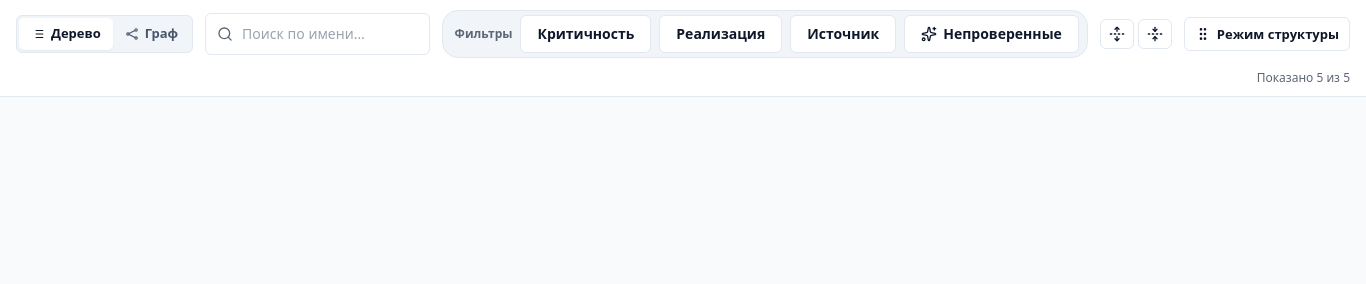
Scenario: TreeToolbar (T-1101/1103/1105) › FR-19 · «Источник» dropdown › applies the source selection only on «Применить» (draft semantics)
Click the button with test id "source-filter": click(843, 34) [790,15,896,53]
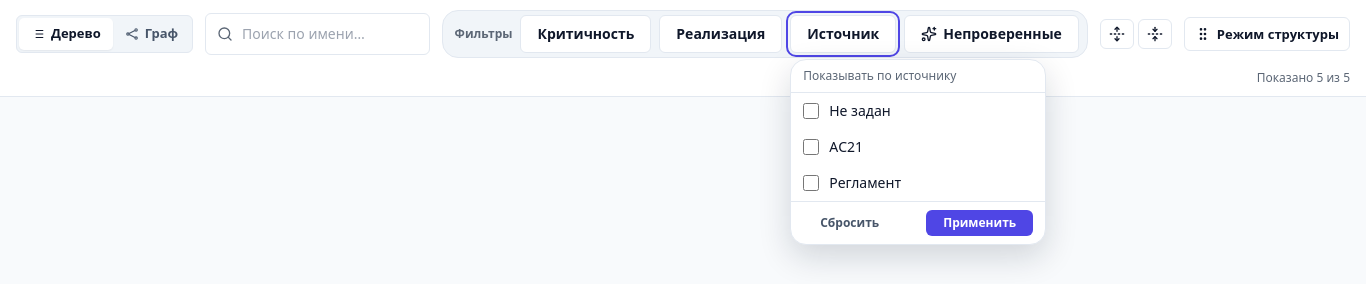
Click the label with test id "source-opt-АС21": click(833, 146) [803,137,863,156]
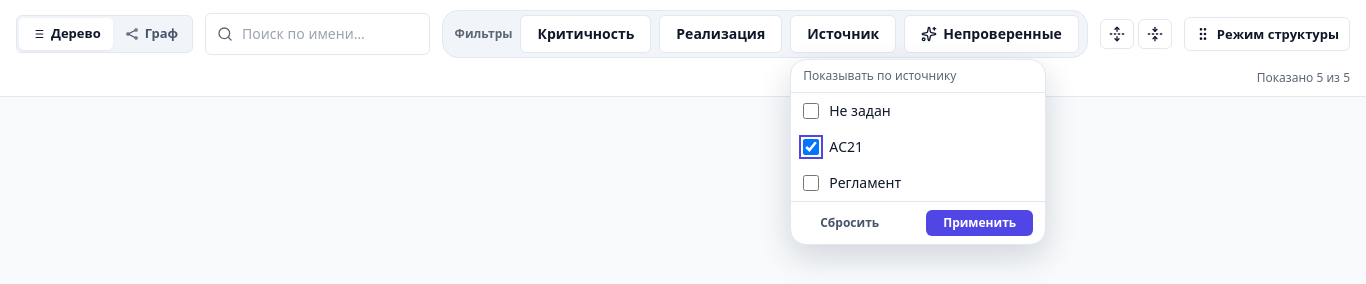
Click the button with test id "source-apply": click(980, 223) [926,210,1033,236]
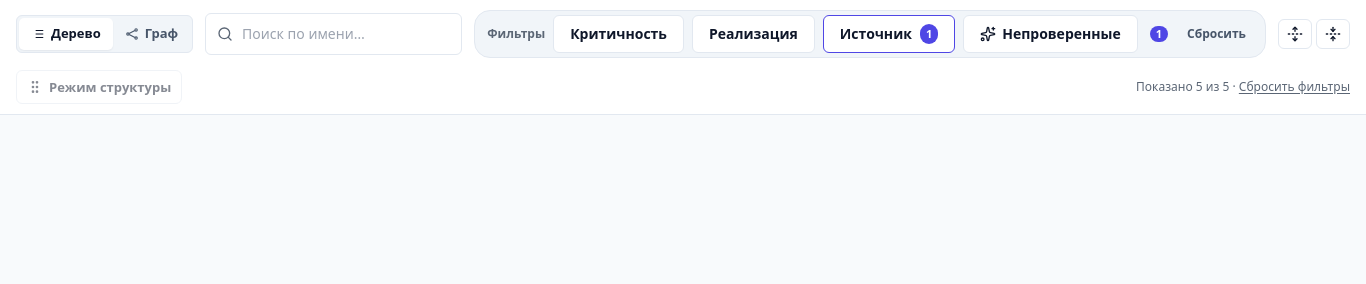
Expected: the element with test id "source-dropdown" is gone
